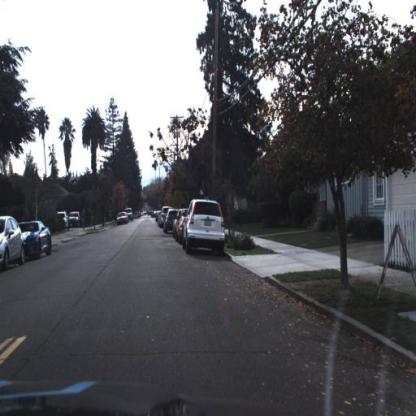car: (181, 198, 226, 254), (13, 219, 53, 259), (1, 216, 26, 274), (163, 208, 179, 234), (57, 209, 71, 232), (158, 206, 172, 229), (68, 211, 82, 229), (116, 211, 130, 226), (124, 207, 134, 223)
pedestrian: (81, 208, 88, 230)
